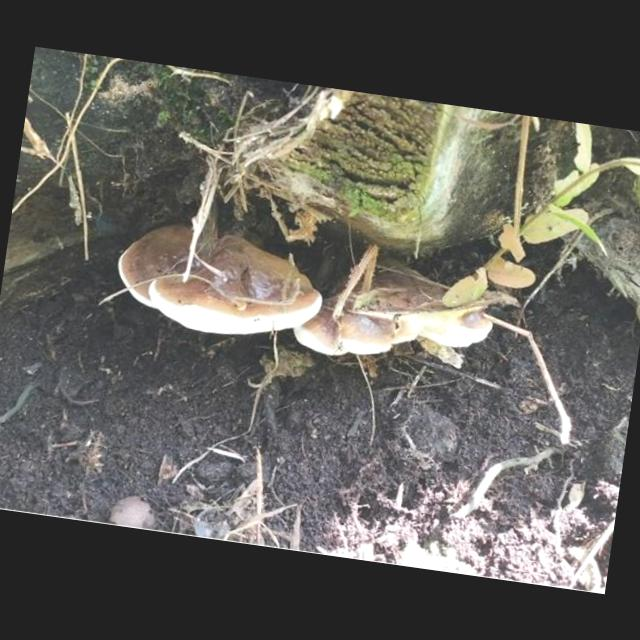ganoderma: (108, 215, 335, 349), (290, 251, 503, 379)
